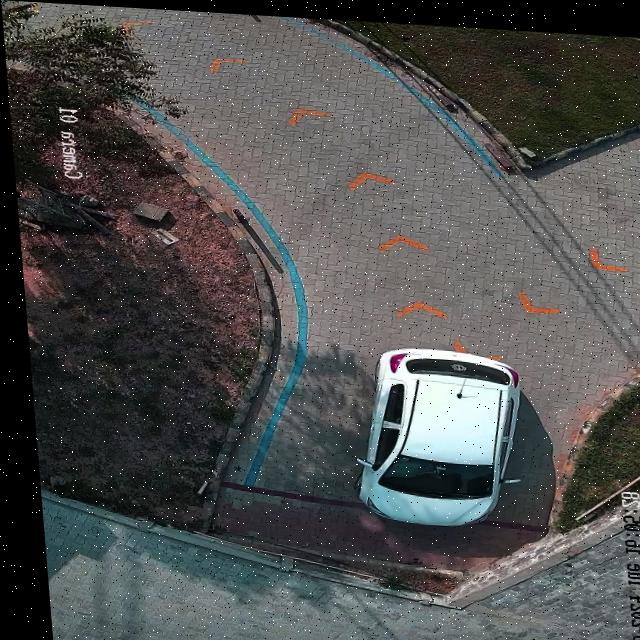car: (349, 343, 516, 524)
